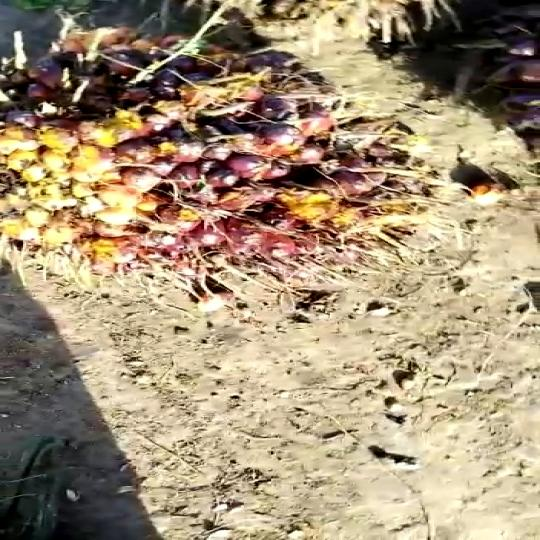masak: (0, 26, 457, 290)
